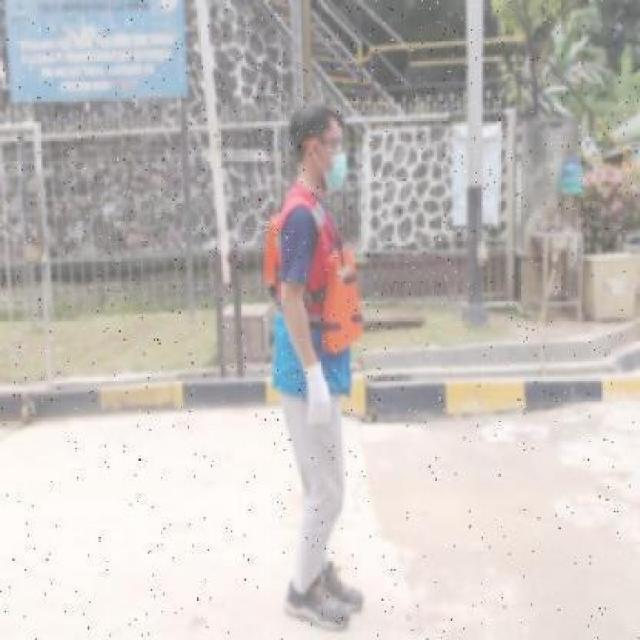Boots: (282, 574, 353, 631), (316, 560, 366, 615)
Gloves: (300, 362, 334, 431)
Mask: (325, 152, 347, 197)
Protective Glasses: (312, 134, 348, 154)
Vest: (263, 210, 366, 356)
